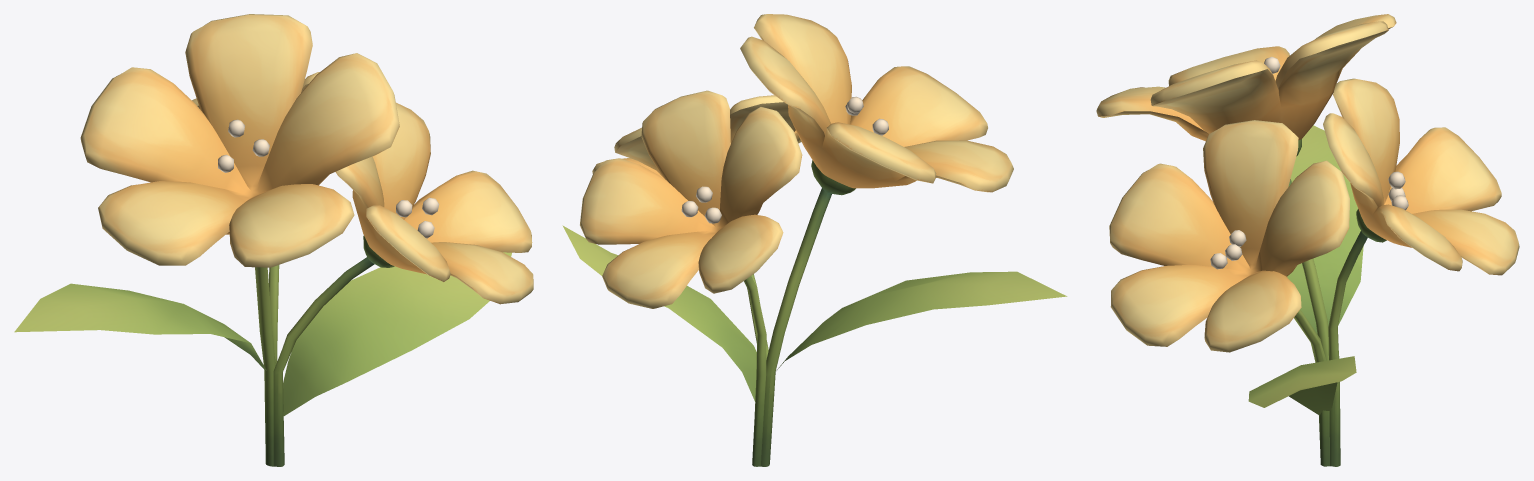
The model's file is Flower_Yellow01.FBX.
3 renders of one model, left to right at view 1: azimuth 30°, elevation 25°; view 2: azimuth 150°, elevation 25°; view 3: azimuth 270°, elevation 25°, orthographic. The views are drawn at different scales.
Parts seen in each view (by area): view 1: Group001, Box019; view 2: Group001, Box019; view 3: Group001, Box019.
Boxes of the visible parts, x1,y1,x2,y2 form: Group001: [80, 14, 533, 304]; Box019: [14, 119, 511, 466]; Group001: [580, 14, 1013, 308]; Box019: [562, 96, 1067, 466]; Group001: [1096, 14, 1519, 352]; Box019: [1210, 56, 1408, 466].
Bounding box in the file's own units: 54.56 × 44.58 × 39.45.
